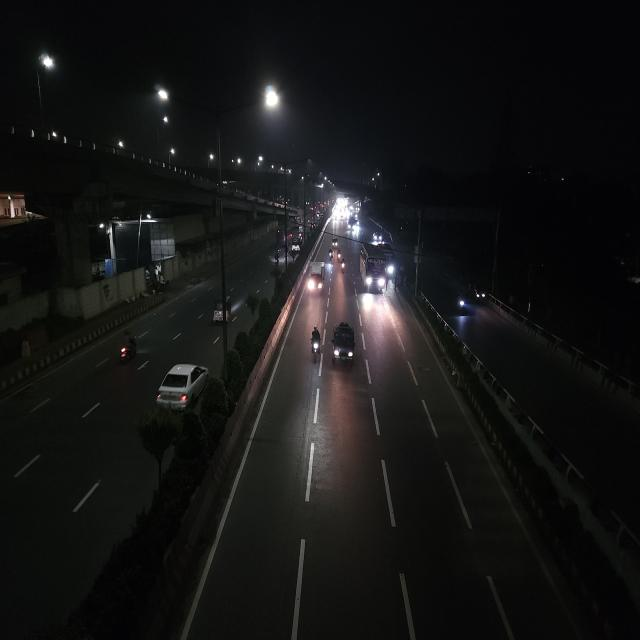bus: (356, 242, 388, 296)
car: (152, 358, 212, 417), (330, 235, 340, 251)
cng: (208, 291, 234, 326)
motorcycle: (113, 328, 141, 373), (306, 325, 324, 365), (454, 292, 468, 314), (272, 252, 281, 269), (338, 252, 346, 271), (327, 248, 334, 262)
pedestrian: (393, 273, 399, 294)
pickup_van: (330, 318, 358, 371)
truck: (308, 258, 325, 297)
